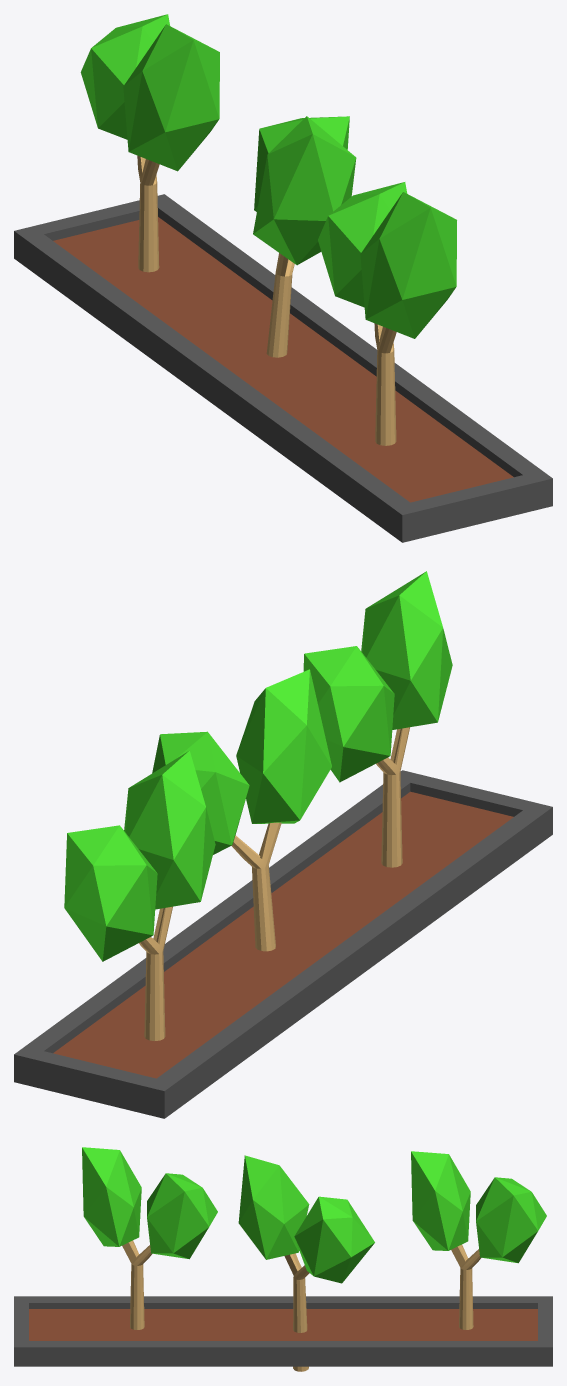
File: treepot.fbx
The picture shows the model from 3 angles, top to bottom: view 1: azimuth 30°, elevation 25°; view 2: azimuth 150°, elevation 25°; view 3: azimuth 270°, elevation 25°; orthographic projection. The views are drawn at different scales.
Parts seen in each view (by area): view 1: Объект_Куб_1_1.001_Mesh.005; view 2: Объект_Куб_1_1.001_Mesh.005; view 3: Объект_Куб_1_1.001_Mesh.005.
Boxes of the visible parts, <box> form: Объект_Куб_1_1.001_Mesh.005: <box>14,14,552,542</box>; Объект_Куб_1_1.001_Mesh.005: <box>14,571,552,1118</box>; Объект_Куб_1_1.001_Mesh.005: <box>14,1147,552,1371</box>.
Size of the model in its own units: 372 by 667 by 1470.
